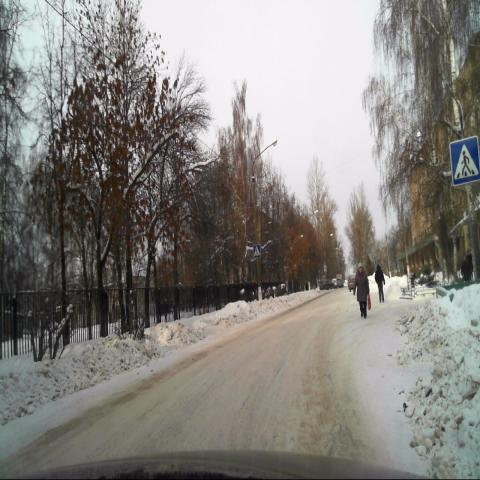5_19_1: (450, 136, 480, 186), (253, 245, 261, 257)
